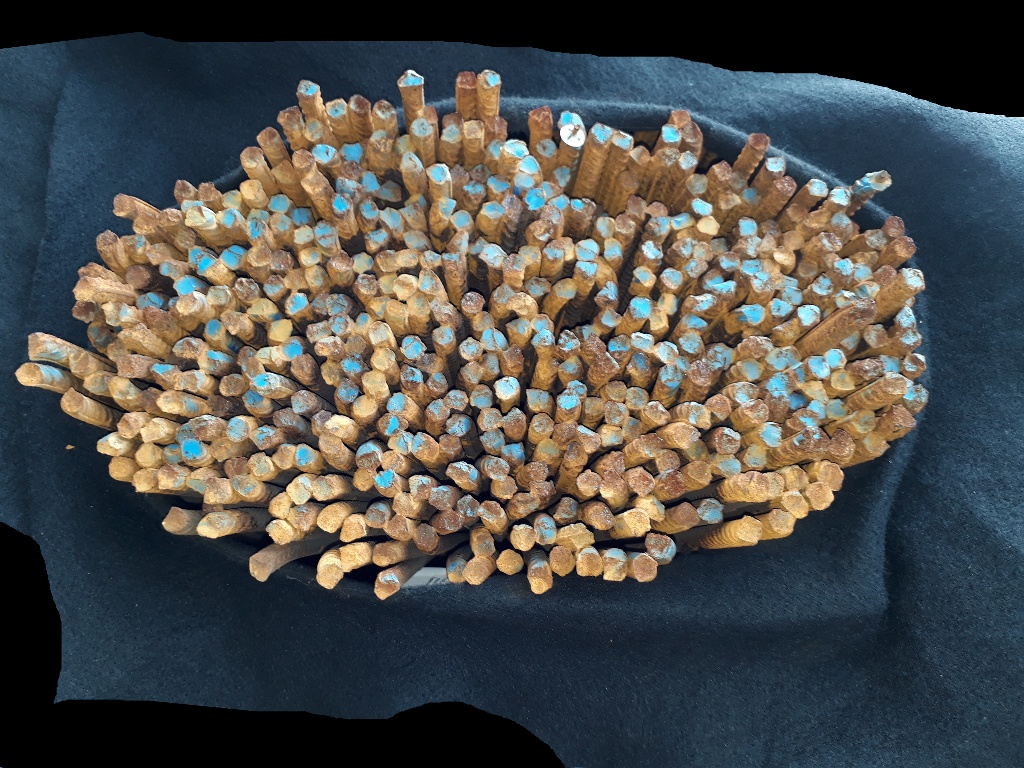dipstick: (558, 112, 586, 148), (887, 407, 917, 438), (558, 523, 593, 549), (196, 510, 228, 537), (431, 298, 461, 324), (412, 433, 438, 463), (805, 427, 829, 459), (502, 407, 527, 437), (737, 338, 771, 360), (496, 550, 523, 577), (806, 484, 834, 510), (782, 492, 810, 518), (624, 510, 653, 535), (830, 430, 854, 460), (446, 461, 477, 484), (862, 324, 891, 348), (413, 524, 437, 553), (205, 478, 231, 504), (593, 282, 619, 308), (340, 544, 366, 570), (599, 471, 624, 498), (589, 505, 616, 530), (429, 484, 456, 509), (316, 507, 343, 532), (905, 385, 929, 413), (819, 461, 843, 489), (766, 349, 798, 370), (432, 325, 456, 353), (176, 369, 207, 390), (851, 299, 876, 325), (773, 320, 799, 345), (317, 564, 343, 589), (375, 574, 400, 600), (221, 243, 245, 270), (661, 471, 685, 498), (361, 371, 388, 395), (311, 477, 338, 501), (84, 371, 112, 394), (577, 424, 600, 452), (16, 364, 45, 386), (97, 435, 126, 457), (158, 468, 187, 490), (737, 516, 762, 541), (629, 470, 654, 495), (550, 548, 574, 574), (418, 268, 442, 294), (266, 521, 292, 545), (152, 362, 179, 385), (690, 361, 717, 384), (672, 425, 700, 447), (188, 470, 217, 491), (457, 495, 478, 524), (770, 510, 794, 535), (764, 392, 788, 417), (743, 400, 767, 425), (633, 556, 657, 581), (644, 400, 669, 424), (511, 525, 535, 550), (401, 335, 426, 359), (133, 211, 159, 234), (314, 221, 337, 247), (233, 278, 259, 301), (118, 413, 141, 439), (708, 345, 734, 368), (163, 507, 186, 533), (289, 507, 315, 530), (171, 338, 204, 356), (463, 563, 490, 585), (157, 391, 185, 412), (831, 213, 852, 241), (431, 513, 459, 534), (134, 468, 158, 492), (784, 467, 808, 491), (602, 555, 626, 579), (376, 471, 400, 495), (222, 309, 247, 332), (640, 497, 665, 520), (476, 407, 501, 430), (371, 348, 396, 371), (365, 503, 388, 528), (126, 266, 152, 288), (459, 362, 485, 384), (536, 439, 562, 461), (410, 474, 432, 500), (293, 354, 315, 380), (244, 392, 270, 414), (812, 232, 842, 251), (766, 372, 793, 393), (535, 518, 556, 545), (523, 461, 551, 481), (275, 341, 303, 361), (145, 308, 168, 332), (285, 292, 309, 315), (109, 457, 132, 481), (698, 500, 722, 523), (530, 413, 553, 437), (400, 366, 423, 390), (393, 275, 417, 298), (290, 391, 314, 414), (378, 415, 407, 434), (120, 325, 145, 347), (263, 274, 285, 299), (141, 420, 166, 442), (646, 535, 671, 557), (328, 250, 353, 272), (831, 370, 857, 391), (714, 455, 740, 476), (209, 439, 235, 460), (886, 372, 906, 399), (416, 354, 446, 372), (253, 375, 280, 395), (248, 243, 271, 266), (807, 356, 830, 379), (577, 472, 600, 495), (578, 552, 601, 575), (470, 385, 493, 408), (439, 436, 462, 459), (369, 320, 392, 343), (278, 106, 302, 128), (135, 444, 159, 466), (369, 130, 393, 152), (853, 410, 877, 432), (747, 475, 769, 499), (715, 430, 739, 452), (689, 404, 711, 428), (682, 294, 715, 310), (660, 364, 682, 388), (554, 418, 576, 442), (220, 374, 244, 396), (571, 199, 596, 220), (903, 354, 928, 375), (676, 503, 697, 528), (503, 345, 524, 370), (480, 430, 505, 451), (314, 339, 343, 357), (803, 380, 829, 400), (680, 334, 706, 354), (478, 502, 504, 522), (491, 479, 517, 499), (402, 230, 429, 249), (508, 294, 535, 313), (513, 493, 540, 512), (104, 301, 126, 324), (481, 245, 504, 267), (530, 106, 553, 128), (496, 377, 519, 399), (582, 396, 605, 418), (426, 373, 448, 396), (447, 414, 470, 436), (394, 493, 417, 515), (419, 271, 441, 294), (207, 285, 231, 306), (269, 319, 293, 340), (197, 352, 221, 373), (340, 142, 364, 163), (576, 240, 600, 261), (750, 272, 774, 293), (741, 304, 765, 325), (473, 534, 494, 558), (426, 400, 450, 421), (386, 518, 410, 539), (321, 360, 342, 384), (251, 428, 275, 449), (71, 301, 96, 321), (864, 435, 889, 455), (639, 435, 664, 455), (596, 353, 621, 373), (296, 442, 316, 467), (233, 476, 258, 496), (341, 520, 366, 540), (248, 556, 268, 581), (140, 389, 159, 415), (599, 452, 625, 471), (121, 234, 148, 252), (526, 277, 553, 295), (447, 557, 465, 584), (149, 242, 171, 264), (240, 147, 262, 169), (869, 170, 891, 192), (825, 348, 847, 370), (529, 568, 551, 590), (608, 335, 630, 357), (408, 294, 430, 316), (88, 324, 111, 345), (365, 230, 388, 251), (807, 209, 830, 230), (703, 268, 724, 291), (806, 401, 827, 424), (657, 450, 680, 471), (526, 388, 549, 409), (387, 393, 410, 414), (269, 494, 290, 517), (373, 543, 394, 566), (71, 278, 95, 298), (302, 172, 326, 192), (298, 246, 322, 266), (247, 298, 277, 314), (738, 359, 762, 379), (307, 321, 331, 341), (159, 259, 187, 276), (215, 209, 240, 228), (110, 378, 135, 397), (326, 295, 351, 314), (177, 294, 198, 316), (331, 192, 352, 214), (189, 416, 210, 438), (183, 438, 204, 460), (428, 163, 450, 184), (812, 274, 834, 295), (902, 269, 924, 290), (745, 446, 767, 467), (711, 396, 732, 418), (657, 293, 678, 315), (656, 342, 677, 364), (556, 277, 577, 299), (537, 356, 558, 378), (251, 454, 272, 476), (62, 389, 82, 412), (382, 180, 402, 203), (697, 216, 720, 236), (761, 422, 781, 445), (605, 403, 628, 423), (328, 315, 351, 335), (357, 450, 380, 470), (207, 396, 230, 416), (135, 292, 162, 309), (240, 361, 267, 378), (448, 230, 467, 254), (861, 359, 885, 378), (564, 447, 588, 466), (501, 443, 525, 462), (328, 415, 352, 434), (274, 409, 298, 428), (397, 70, 423, 87), (270, 250, 291, 271), (313, 144, 334, 165), (284, 269, 305, 290), (690, 462, 711, 483), (626, 388, 647, 409), (487, 459, 508, 480), (383, 450, 404, 471), (227, 420, 248, 441), (95, 230, 117, 250), (244, 218, 266, 238), (68, 352, 90, 372), (293, 207, 315, 227), (302, 119, 322, 141), (273, 160, 293, 182), (379, 206, 401, 226), (503, 254, 525, 274), (634, 266, 656, 286), (865, 230, 887, 250), (882, 353, 902, 375), (628, 355, 650, 375), (558, 330, 580, 350), (459, 337, 479, 359), (346, 335, 366, 357), (478, 70, 501, 89), (688, 442, 711, 461), (600, 426, 623, 445), (445, 390, 468, 409), (266, 194, 290, 212), (462, 183, 486, 201), (645, 218, 669, 236), (680, 315, 707, 331), (461, 293, 485, 311), (269, 213, 290, 233), (195, 256, 216, 276), (257, 127, 278, 147), (162, 445, 182, 466), (525, 188, 545, 209), (686, 173, 707, 193), (662, 267, 682, 288), (798, 304, 819, 324), (532, 331, 552, 352), (354, 471, 375, 491), (174, 423, 196, 442), (504, 195, 523, 217), (657, 146, 679, 165), (389, 434, 411, 453), (28, 333, 44, 359), (503, 139, 529, 155), (536, 139, 559, 157), (774, 177, 797, 195), (559, 357, 582, 375), (354, 396, 377, 414), (374, 100, 394, 120), (591, 123, 611, 143), (738, 217, 758, 237), (769, 300, 794, 316), (856, 282, 881, 298), (353, 253, 373, 273), (224, 459, 249, 475), (117, 358, 138, 377), (433, 199, 454, 218), (613, 129, 632, 150), (619, 170, 638, 191), (672, 238, 693, 257), (624, 418, 643, 439), (632, 333, 653, 352), (582, 335, 603, 354), (338, 379, 357, 400), (319, 434, 340, 453), (297, 79, 319, 97), (488, 175, 510, 193), (482, 200, 504, 218), (642, 241, 664, 259), (686, 260, 708, 278), (736, 239, 758, 257), (829, 187, 851, 205), (900, 331, 922, 349), (482, 330, 504, 348), (310, 292, 328, 314), (240, 180, 263, 197), (174, 228, 197, 245), (736, 382, 759, 399), (854, 250, 878, 266), (293, 149, 313, 168), (464, 120, 484, 139), (452, 210, 472, 229), (377, 251, 397, 270), (543, 239, 562, 259), (615, 215, 635, 234), (748, 132, 768, 151), (886, 216, 905, 236), (895, 238, 915, 257), (828, 398, 847, 418), (387, 300, 407, 319), (112, 194, 130, 215), (456, 71, 477, 89), (682, 123, 703, 141), (718, 191, 739, 209), (721, 253, 742, 271), (342, 357, 363, 375), (768, 472, 783, 497), (159, 208, 181, 225), (530, 221, 552, 238), (420, 250, 442, 267), (531, 313, 553, 330), (236, 346, 258, 363), (314, 410, 331, 432), (337, 178, 360, 194), (646, 201, 669, 217), (529, 482, 557, 495), (221, 189, 240, 208), (306, 266, 325, 285), (711, 161, 730, 180), (631, 298, 650, 317), (293, 226, 313, 244), (205, 321, 225, 339), (520, 245, 540, 263), (596, 217, 614, 237), (628, 196, 646, 216), (693, 241, 711, 261), (787, 204, 807, 222), (808, 179, 828, 197), (711, 237, 731, 255), (782, 287, 802, 305), (896, 308, 914, 328), (607, 382, 627, 400), (371, 294, 386, 318), (186, 207, 207, 224), (673, 213, 694, 230), (782, 231, 803, 248), (558, 390, 579, 407), (482, 355, 499, 376), (108, 341, 127, 359), (350, 95, 369, 113), (396, 135, 415, 153), (362, 171, 380, 190), (451, 164, 469, 183), (766, 155, 785, 173), (378, 274, 396, 293), (326, 99, 346, 116), (411, 120, 431, 137), (519, 156, 539, 173), (443, 253, 463, 270), (601, 308, 621, 325), (400, 205, 424, 219), (604, 239, 620, 260), (442, 113, 464, 128), (554, 167, 572, 185), (172, 180, 191, 197), (472, 163, 489, 182), (774, 275, 797, 289), (576, 261, 596, 277), (716, 280, 736, 296), (174, 277, 195, 292), (354, 313, 369, 334), (562, 237, 575, 261), (399, 250, 417, 267), (632, 146, 650, 163), (680, 150, 697, 168), (729, 172, 746, 190), (763, 219, 781, 236), (650, 311, 667, 329), (359, 275, 376, 293), (442, 127, 461, 143), (775, 247, 794, 263), (798, 259, 817, 275), (853, 264, 872, 280), (836, 291, 855, 307), (417, 107, 437, 122), (692, 199, 712, 214), (759, 236, 774, 256), (473, 313, 493, 328), (744, 188, 761, 205), (663, 125, 679, 143), (495, 286, 513, 302), (199, 182, 214, 201), (875, 267, 894, 282), (80, 263, 100, 277), (489, 140, 503, 160), (543, 182, 563, 196), (580, 324, 601, 337), (360, 199, 376, 216), (672, 109, 689, 125), (470, 236, 486, 253), (542, 207, 560, 222), (568, 381, 586, 396), (741, 260, 760, 274), (787, 395, 806, 409), (248, 207, 268, 220), (836, 259, 853, 274), (597, 260, 611, 278), (258, 348, 272, 366), (406, 193, 425, 206), (515, 174, 535, 186), (821, 254, 839, 267), (549, 196, 568, 208), (760, 259, 779, 271), (190, 245, 201, 261)
